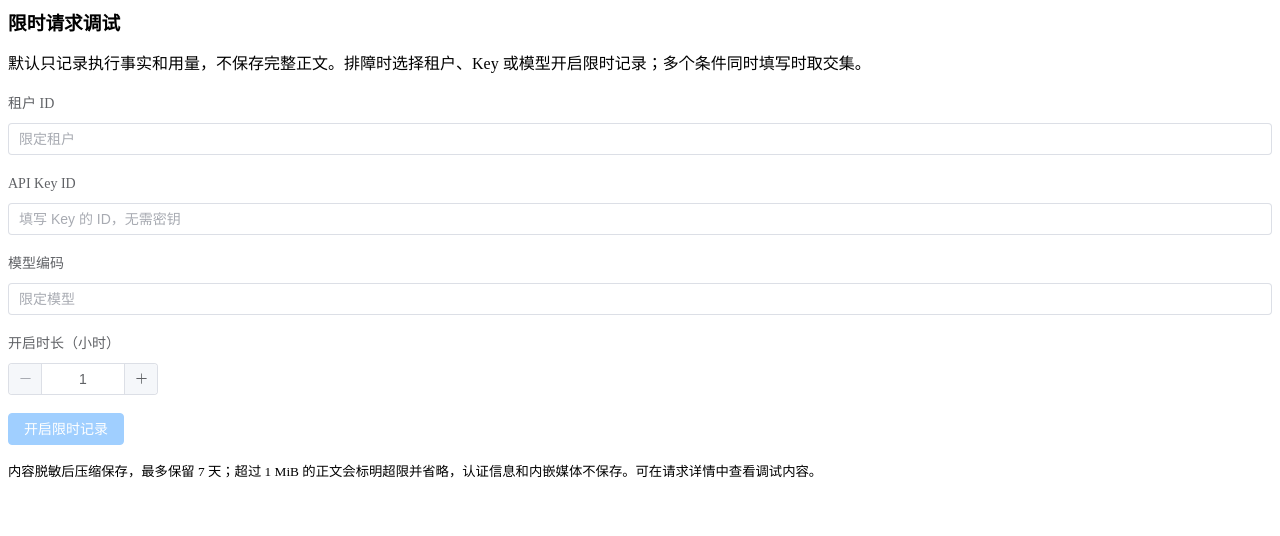
Test: scoped debug recording › requires scope and defaults to one hour
The image size is (1280, 536).
Expected: the button "开启限时记录" is disabled, [8,413,124,445]
In the field with placeholder "限定租户": coordinates (640, 139) [19,124,1261,154], type "tenant1"
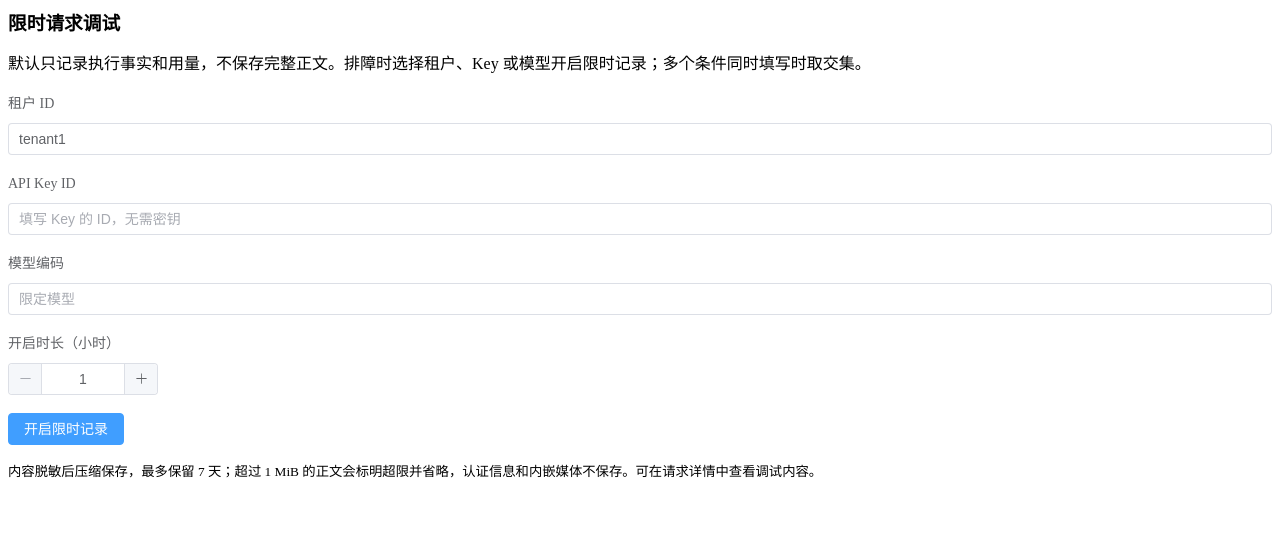
Click the button "开启限时记录": coordinates (66, 429) [8,413,124,445]
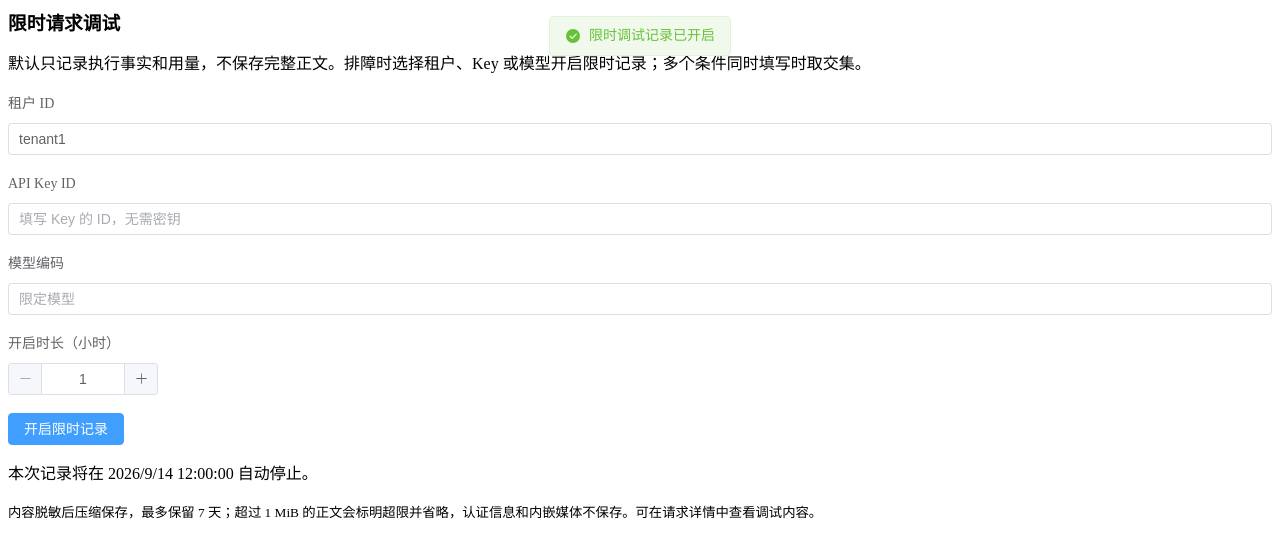
Expected: the text "自动停止" is shown, [8,465,318,482]
